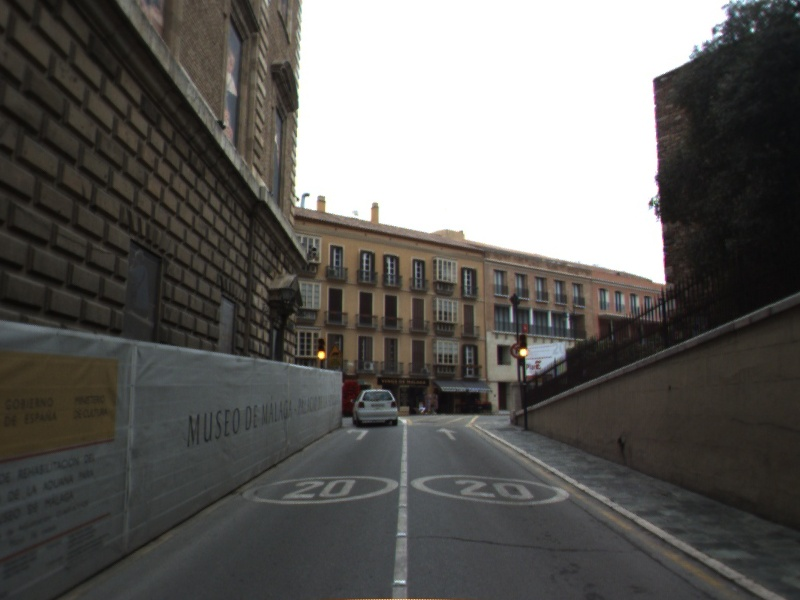LEFT: (344, 426, 371, 442)
STRAIGHT: (434, 425, 461, 442)
